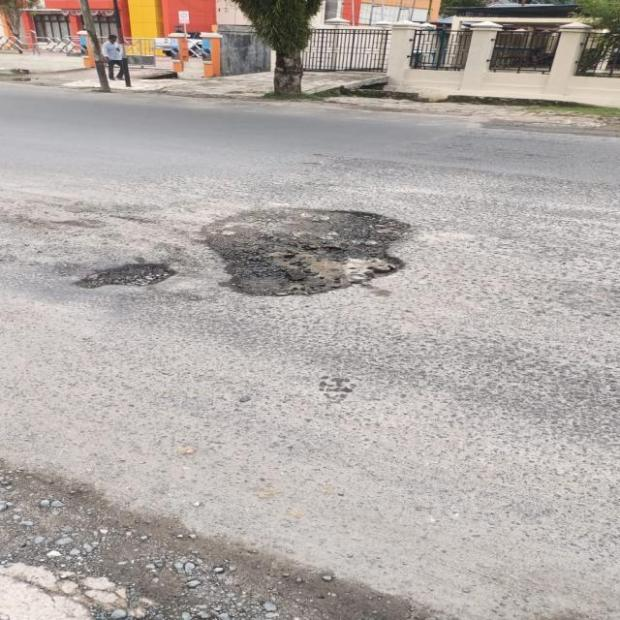lubang: (202, 209, 410, 295), (76, 262, 175, 288)
